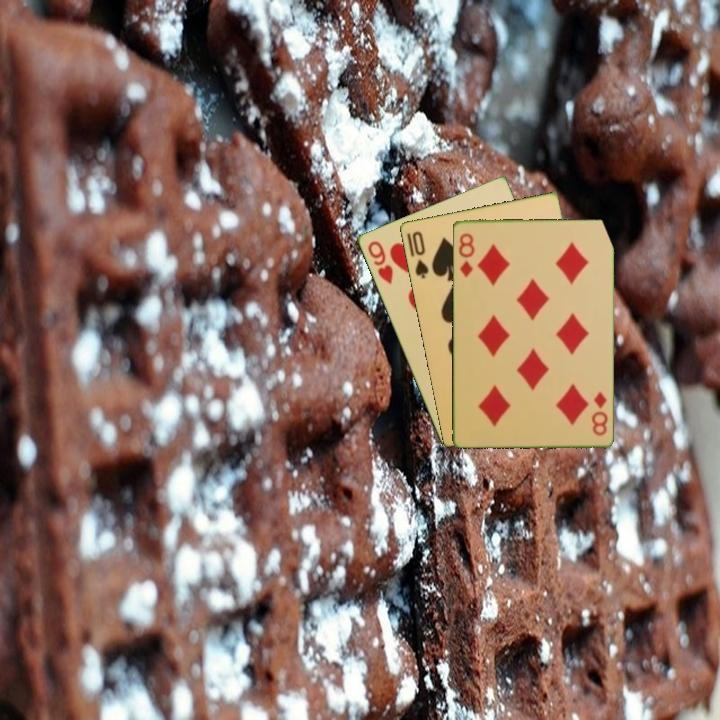10s: (408, 227, 431, 281)
8d: (455, 229, 477, 280), (588, 388, 610, 438)
9h: (364, 237, 396, 287)
